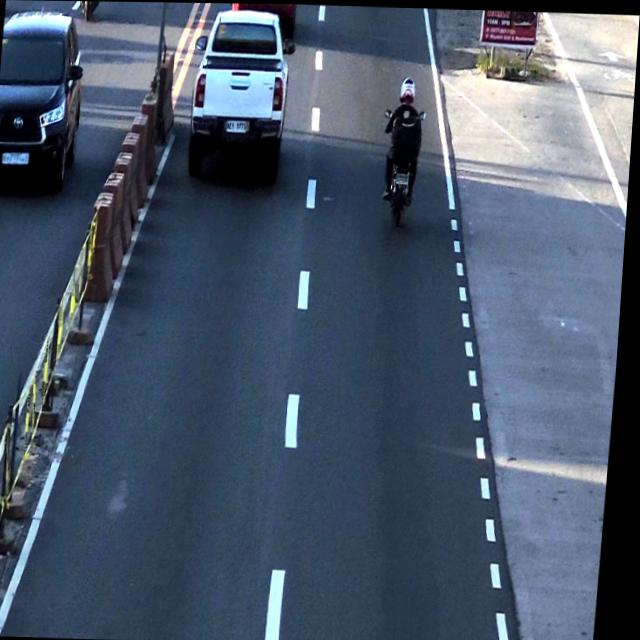Car: (184, 6, 294, 186)
License-Plate: (227, 116, 250, 133), (395, 170, 413, 185)
Motorcycle: (380, 71, 430, 223)
